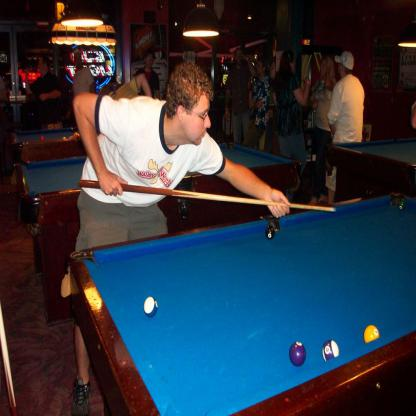Ball: (290, 341, 306, 367), (322, 341, 339, 360), (145, 295, 158, 318), (364, 327, 380, 342), (266, 225, 275, 238), (400, 199, 404, 210)
